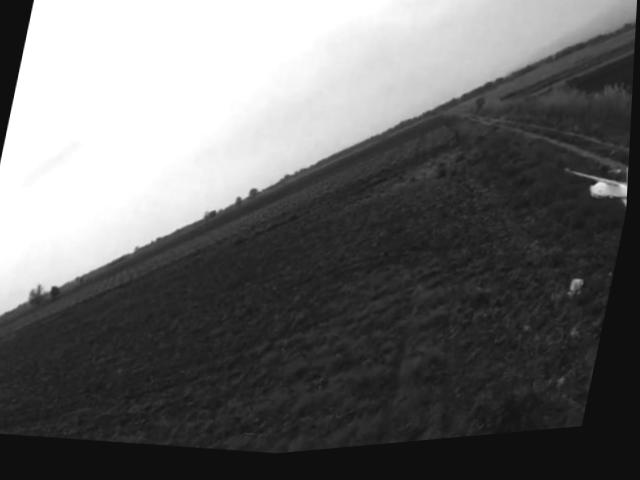hedef: (551, 161, 632, 237)
